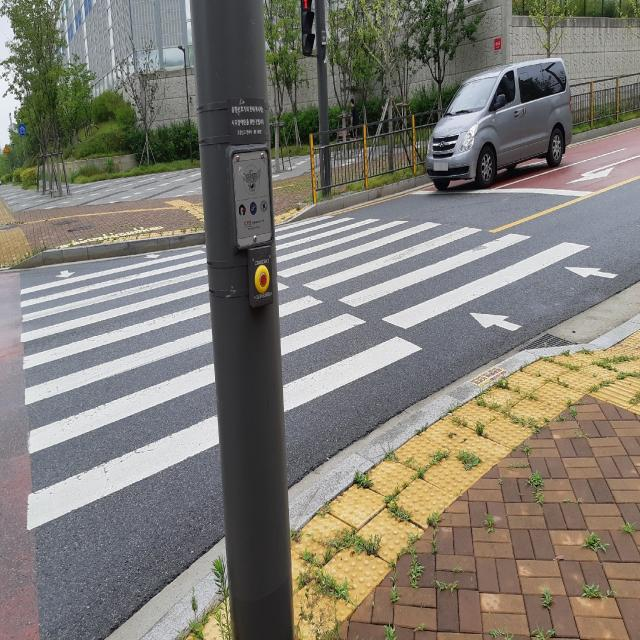빨간불: (302, 0, 315, 55)
횡단보도: (18, 211, 618, 536)
